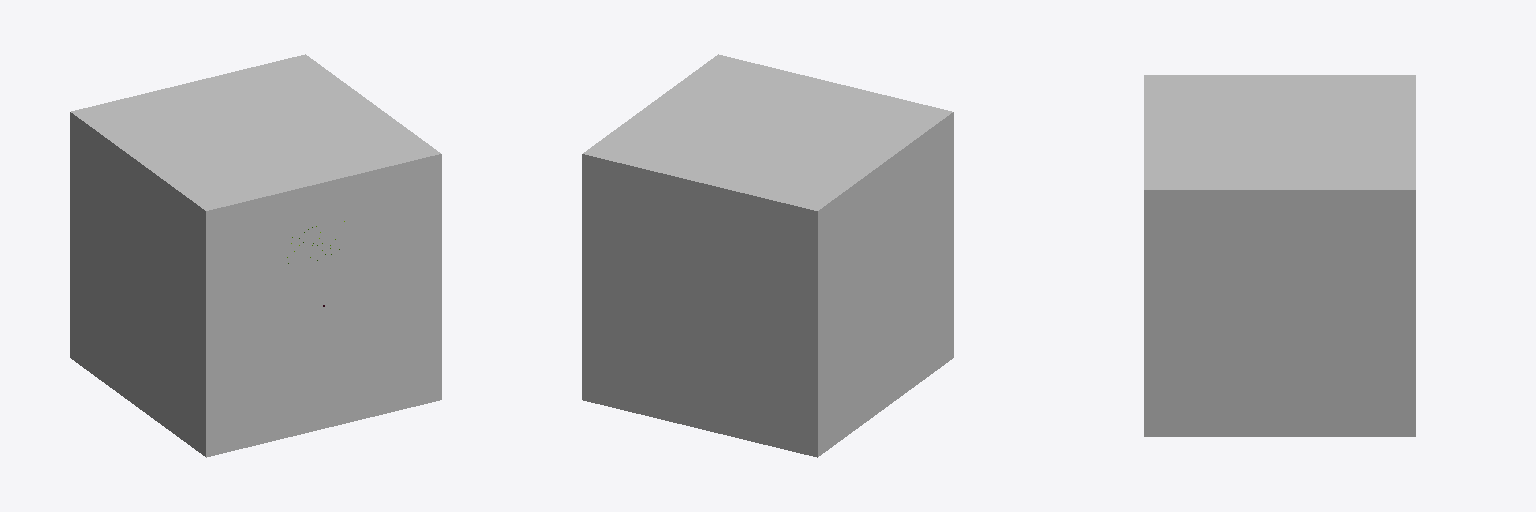
3 renders of one model, left to right at view 1: azimuth 30°, elevation 25°; view 2: azimuth 150°, elevation 25°; view 3: azimuth 270°, elevation 25°, orthographic.
Parts seen in each view (by area): view 1: Wall; view 2: Wall; view 3: Wall.
Boxes of the visible parts, box(x1,y1,x2,y2) form: Wall: box(70, 54, 441, 457); Wall: box(582, 54, 953, 457); Wall: box(1144, 75, 1415, 436).
Size of the model in its own units: 40.49 by 40.49 by 40.54.
22 materials, 7 textured.